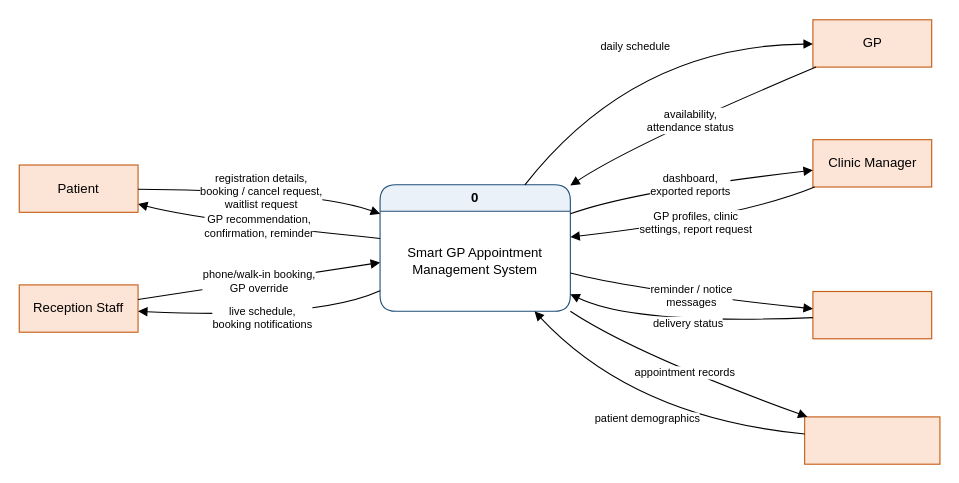
The diagram is 959 pixels wide and 483 high, and some of its shapes have lost their labels. Each missing label, with the box of its shape:
Practice Management Software (PMS): (804, 416, 940, 464)
SMS / Email Gateway: (812, 290, 932, 339)
